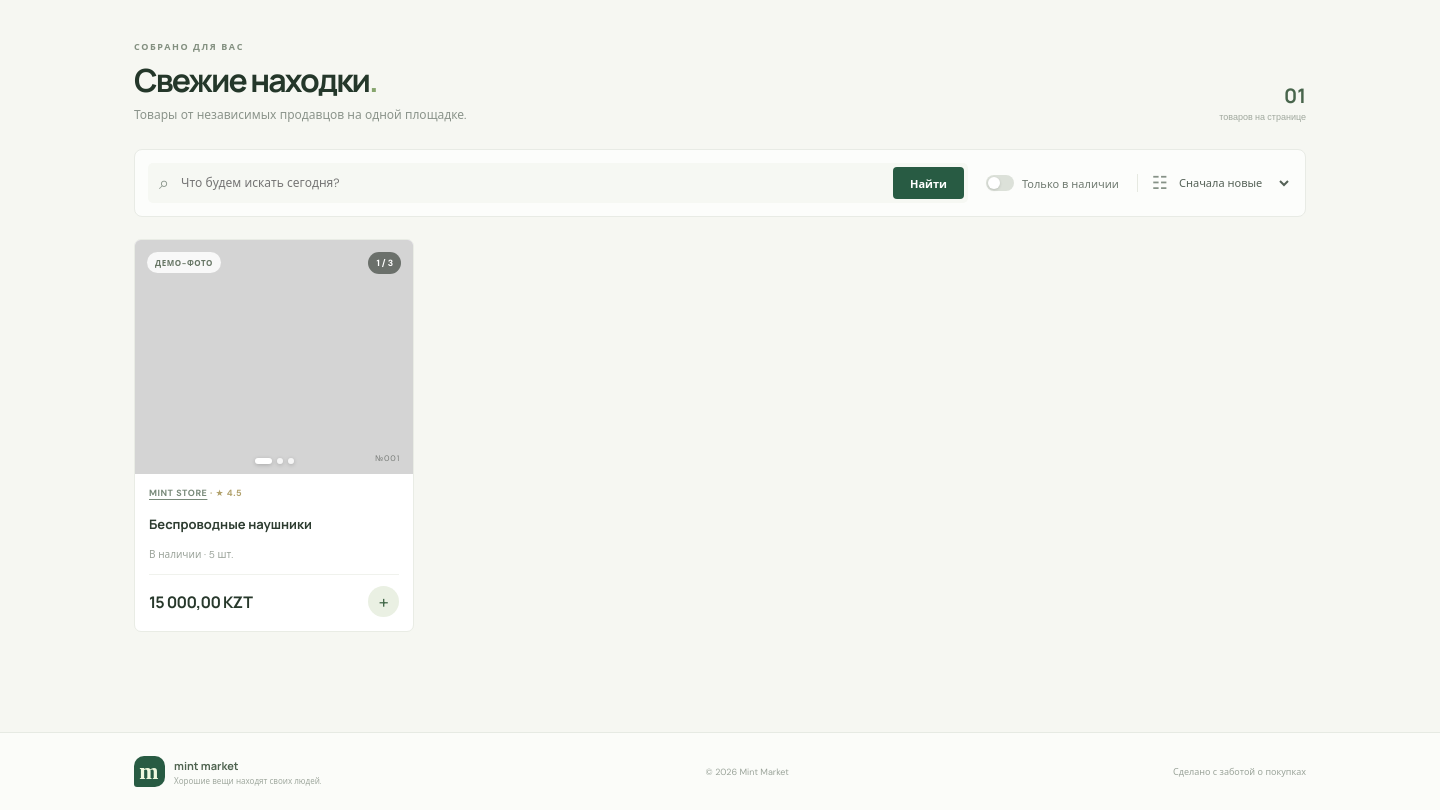
FT-06 guest adds to cart › opens the login window and does not call the cart API
This screenshot has width=1440, height=810.
(page scrolled)
Expected: the button "Беспроводные наушники" is shown, [149,506,399,542]
What coordinates should you click on to do the following:
click the button titled "Добавить в корзину"
I would click on:
 (384, 602)
Its box is [368,586,399,617].
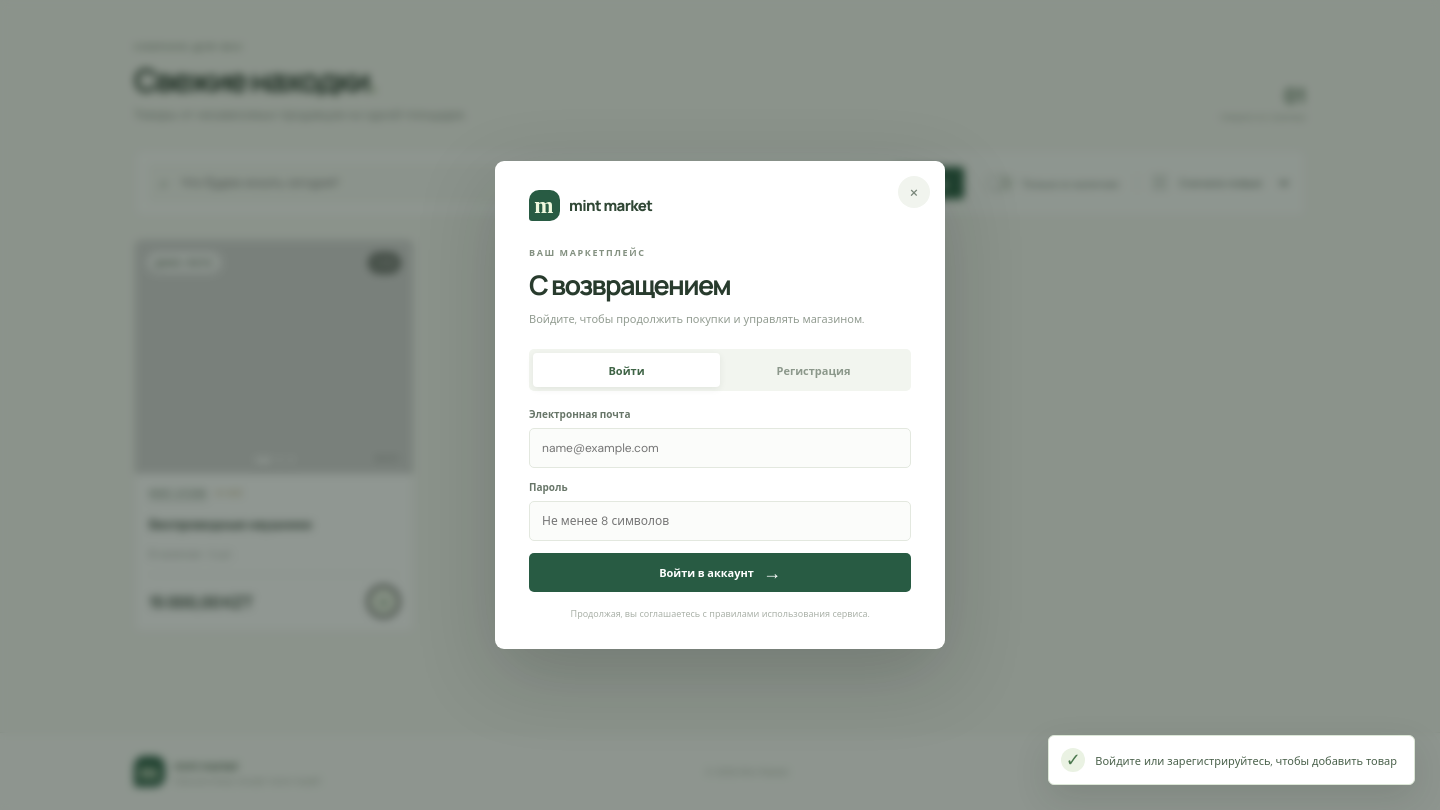
Result: the heading "С возвращением" is shown at [529,266,730,304]
Result: the text "Войдите или зарегистрируйтесь, чтобы добавить товар" is shown at [1095,754,1397,768]
